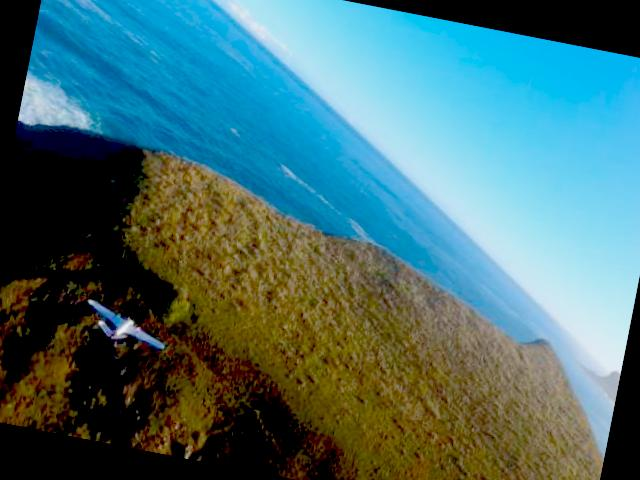uav: (78, 292, 172, 355)
